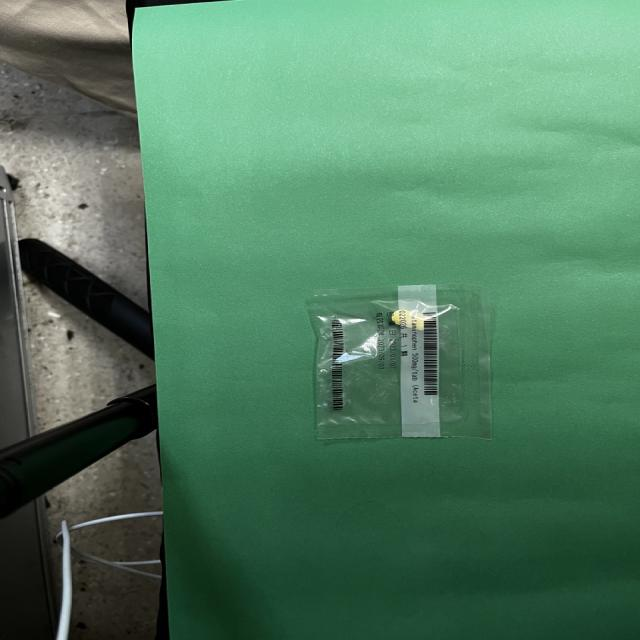Other Objects: (307, 285, 491, 440)
